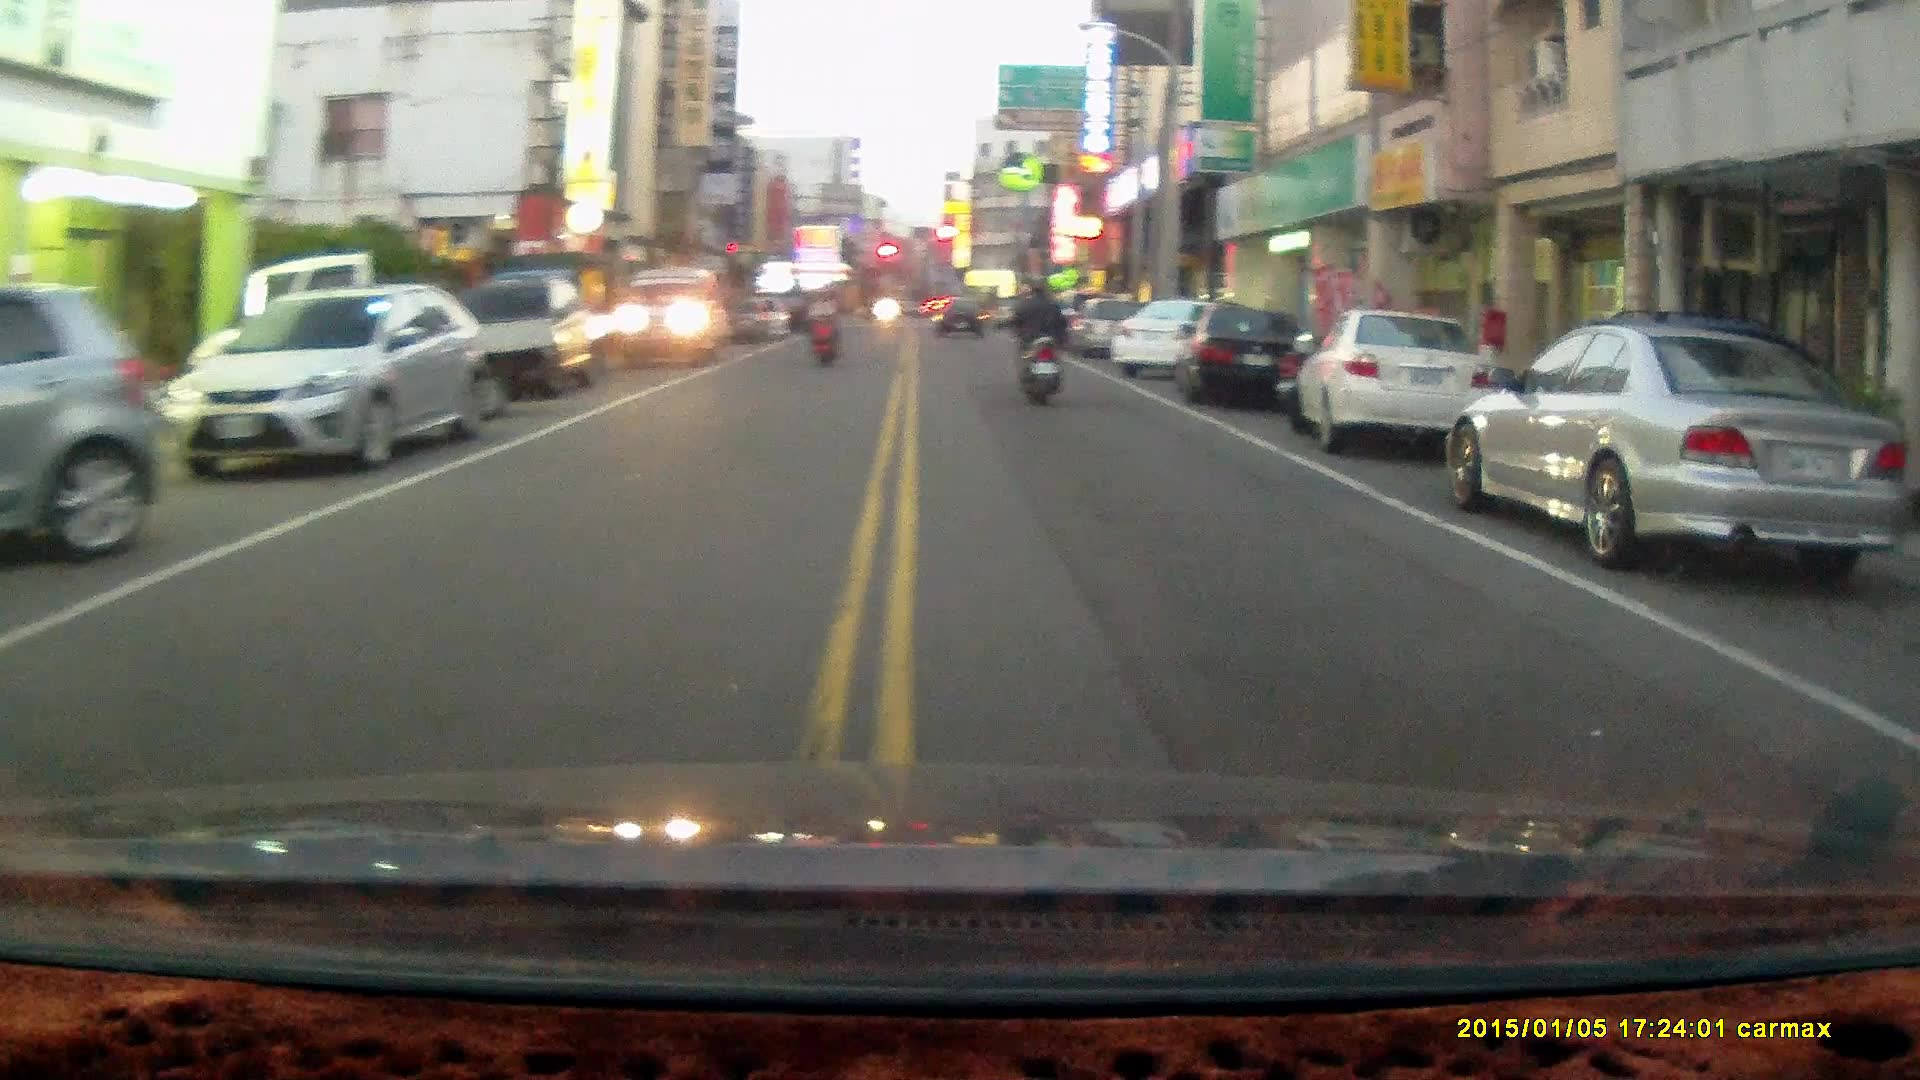rider: (1005, 273, 1061, 405), (805, 284, 840, 366)
vehicle: (1451, 321, 1903, 579), (168, 282, 485, 472), (1, 282, 164, 573), (1291, 309, 1510, 455), (450, 270, 595, 403), (1183, 300, 1313, 410), (611, 266, 726, 369), (1108, 297, 1244, 380)
